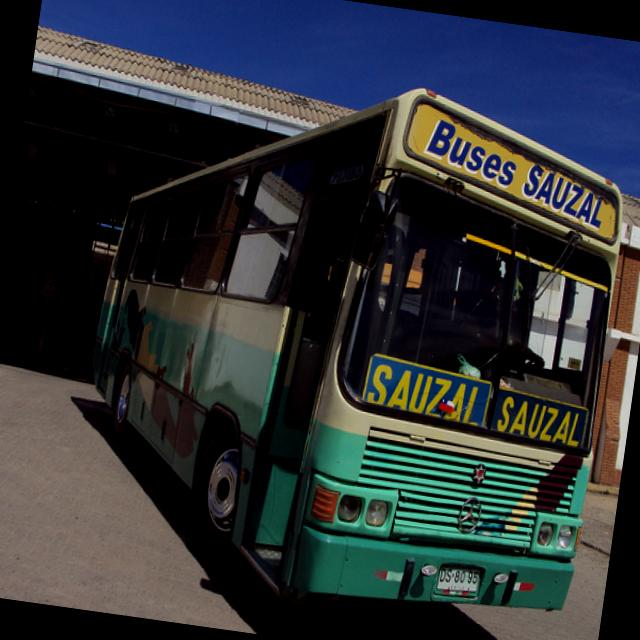Vehicle: (62, 45, 638, 640)
